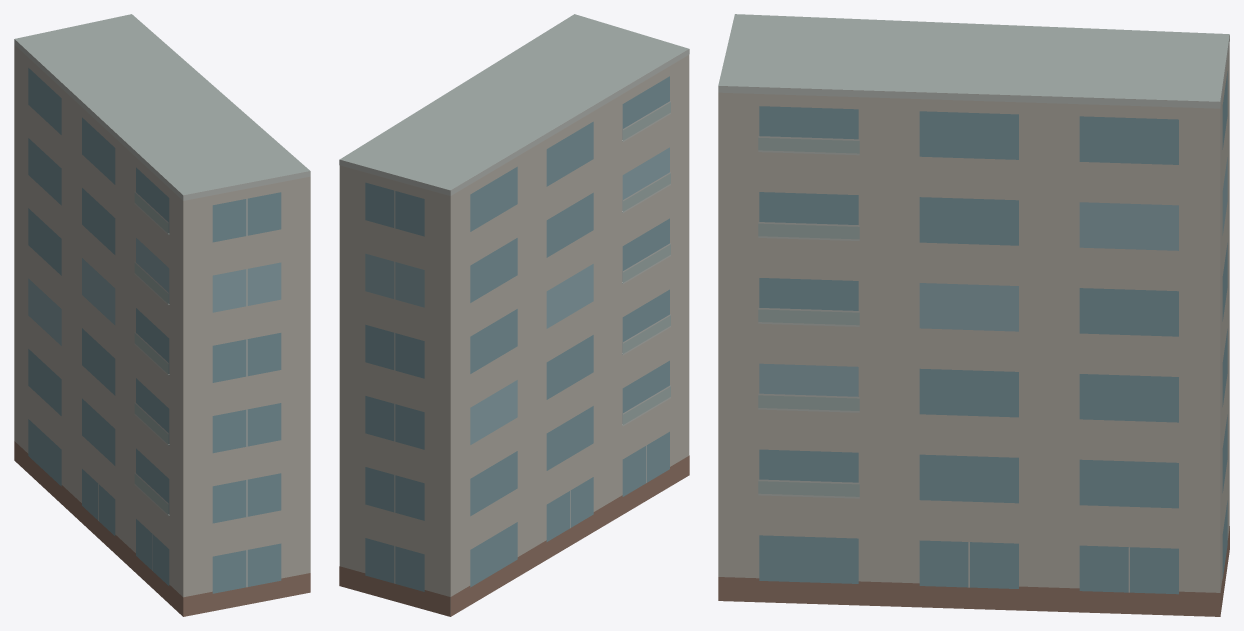
File: survey-upis-32812941.glb
3 renders of one model, left to right at view 1: azimuth 30°, elevation 25°; view 2: azimuth 150°, elevation 25°; view 3: azimuth 270°, elevation 25°, orthographic. The views are drawn at different scales.
Visible parts, largest first — view 1: survey-upis-32812941.tmp; view 2: survey-upis-32812941.tmp; view 3: survey-upis-32812941.tmp.
Boxes of the visible parts, <box> form: survey-upis-32812941.tmp: <box>14,14,310,616</box>; survey-upis-32812941.tmp: <box>339,14,689,616</box>; survey-upis-32812941.tmp: <box>718,14,1229,616</box>.
Bounding box in the file's own units: 6.7 × 18.3 × 16.48.
